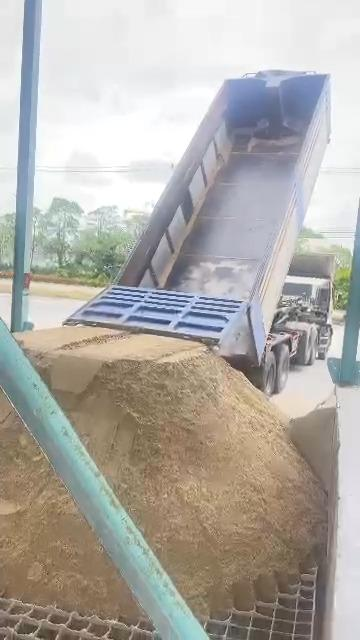sand: (21, 328, 325, 613), (0, 398, 137, 617), (288, 395, 338, 496)
